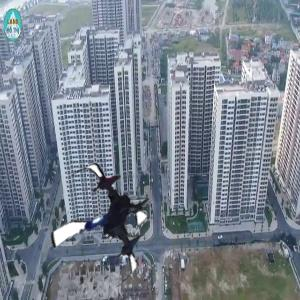drone: (40, 164, 166, 290)
